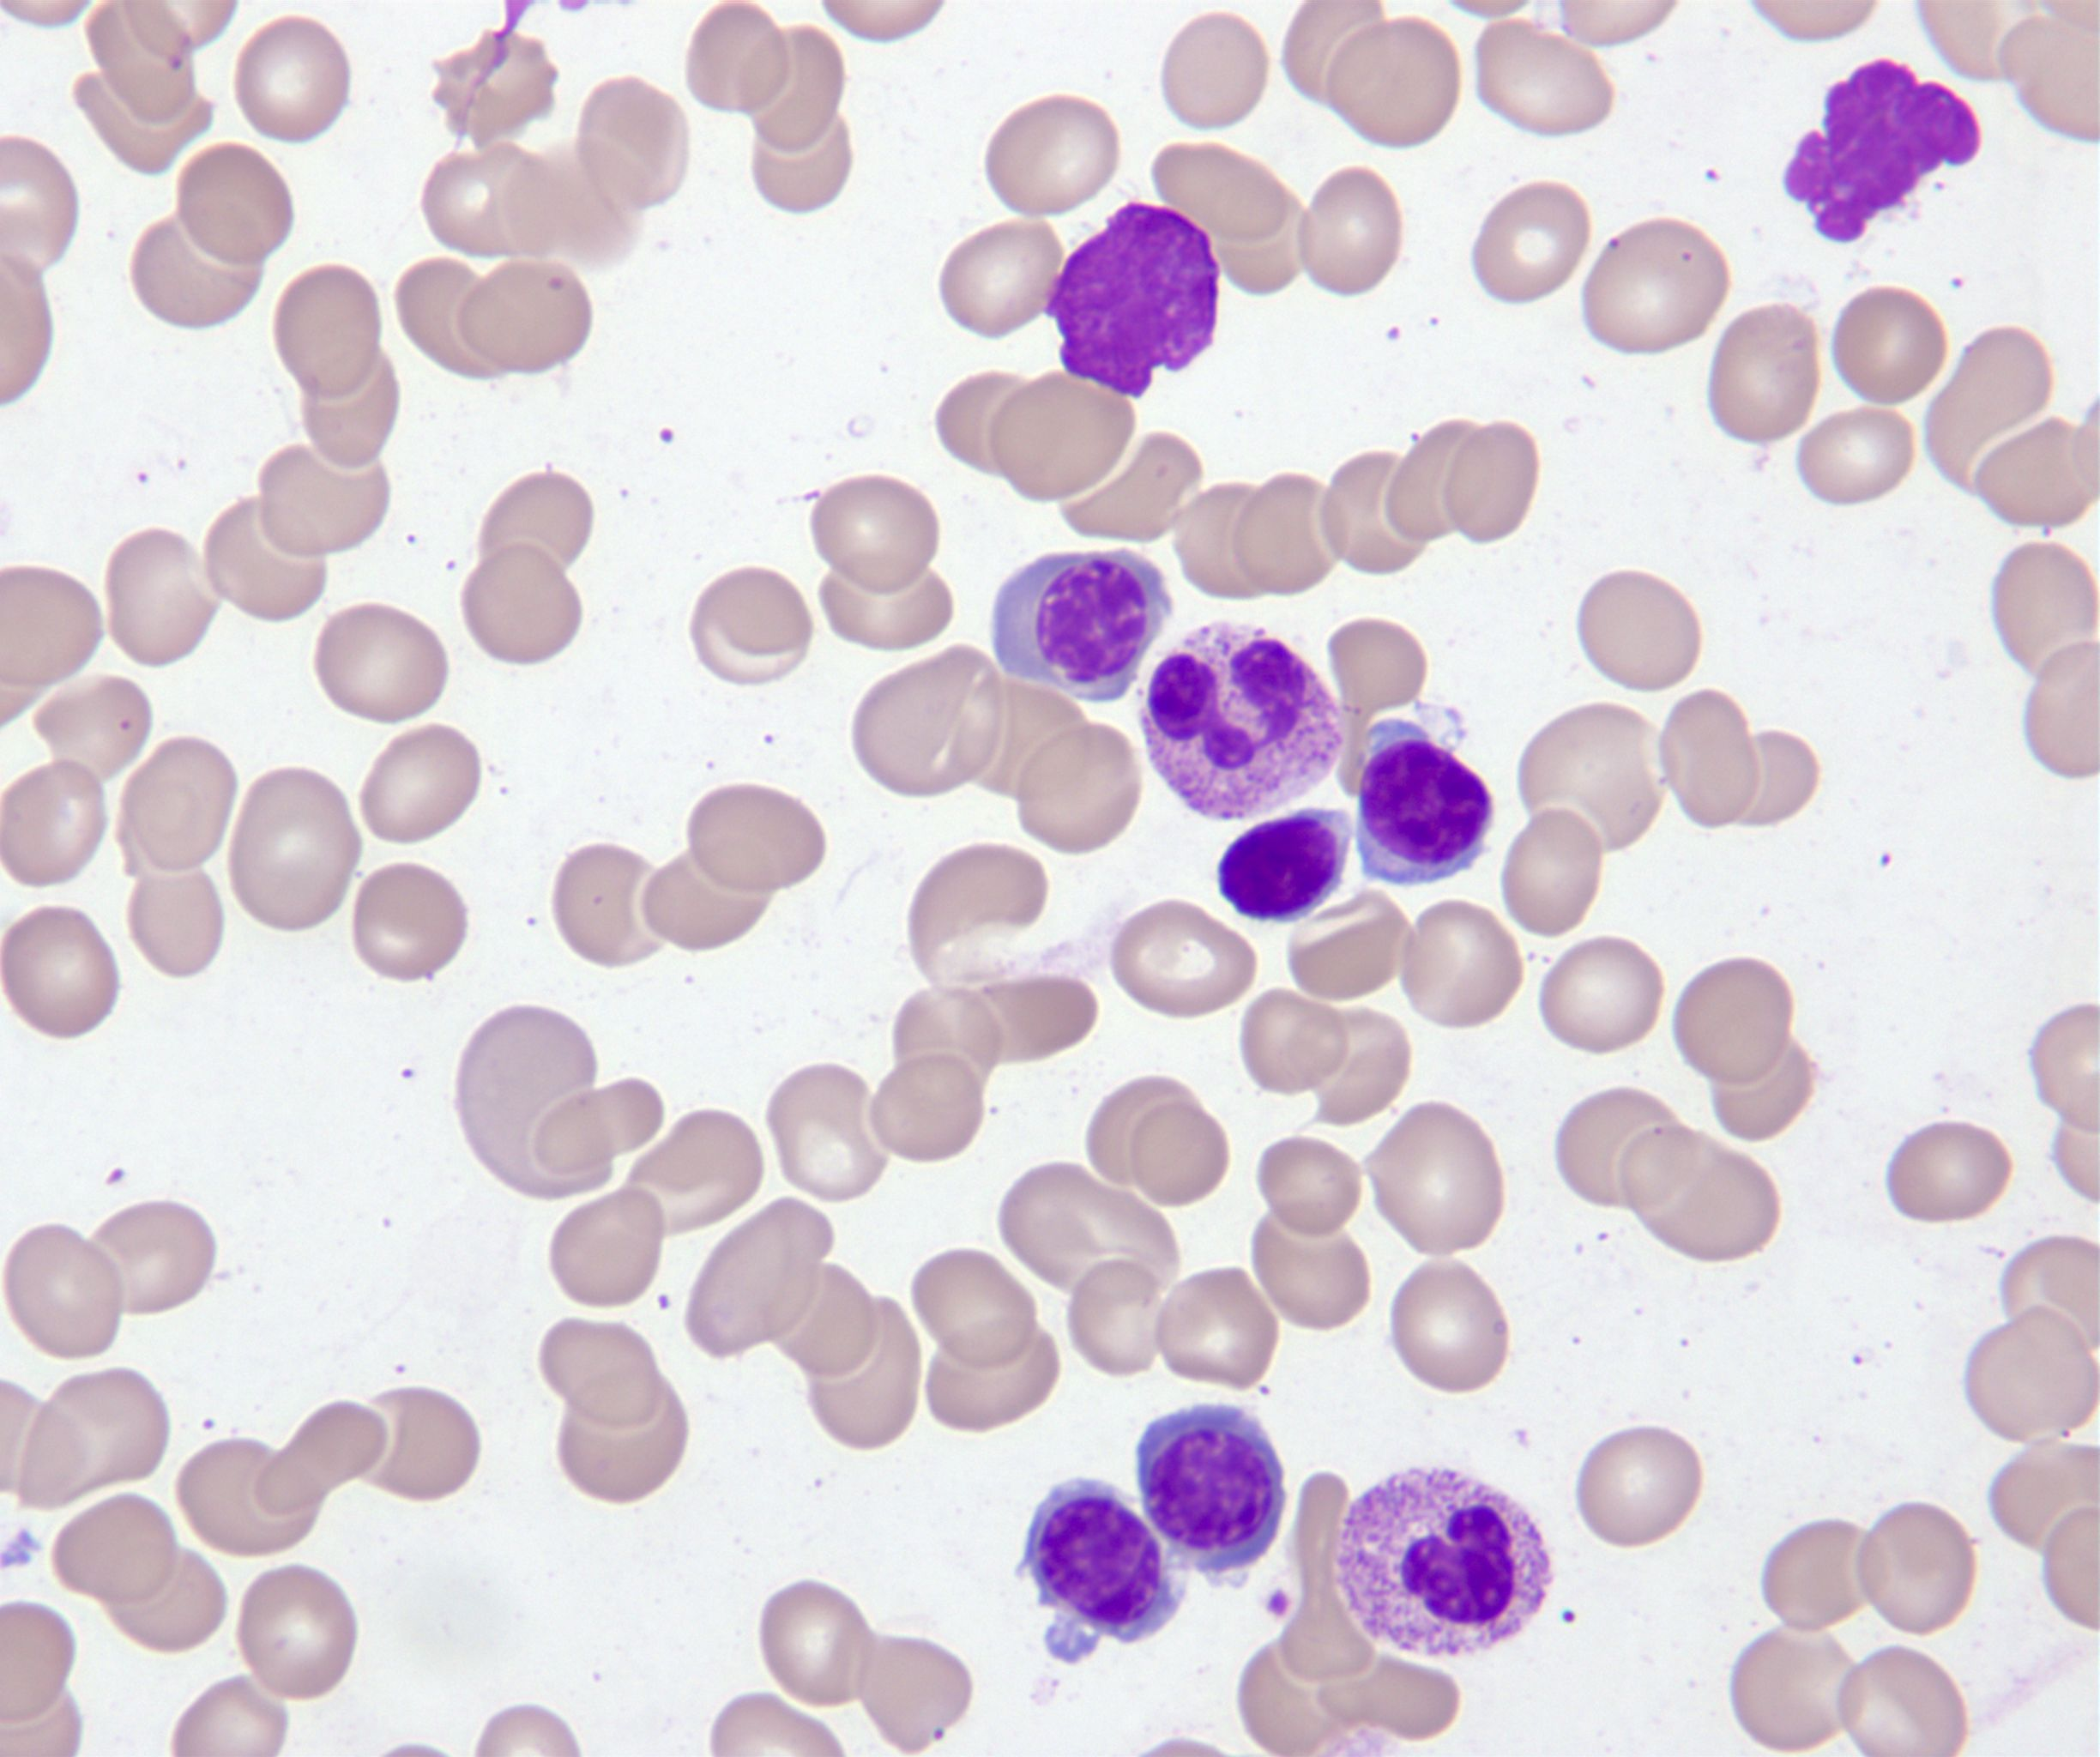24: (1027, 1480, 1184, 1663), (992, 546, 1172, 701), (1135, 1401, 1285, 1574), (1357, 721, 1491, 886)
32: (1219, 808, 1352, 923)
6: (1139, 621, 1343, 820), (1338, 1469, 1551, 1658)
x: (1783, 56, 1981, 243), (1043, 204, 1219, 401)
